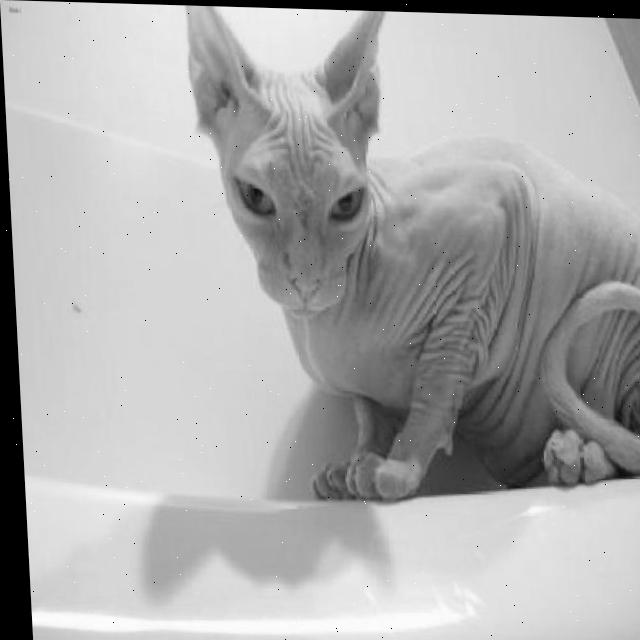Cat: (183, 5, 640, 514)
